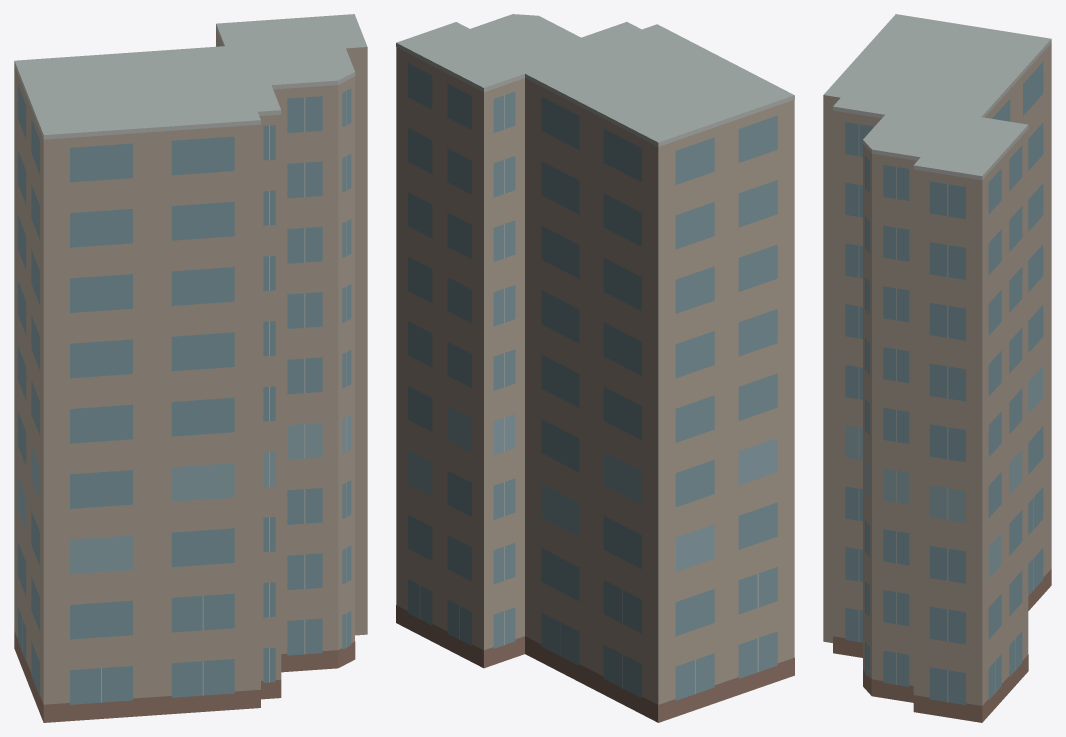
Rendered from survey-upis-32880361.glb.
3 views of the same model, side by side, from view 1: azimuth 30°, elevation 25°; view 2: azimuth 150°, elevation 25°; view 3: azimuth 270°, elevation 25° (orthographic). The views are drawn at different scales.
Visible parts, largest first — view 1: survey-upis-32880361.tmp; view 2: survey-upis-32880361.tmp; view 3: survey-upis-32880361.tmp.
Part boxes in pixels (bbox=[...]): survey-upis-32880361.tmp: bbox=[14, 14, 367, 722]; survey-upis-32880361.tmp: bbox=[396, 14, 794, 722]; survey-upis-32880361.tmp: bbox=[823, 14, 1051, 722].
Size of the model in its own units: 20.69 by 32.5 by 12.31.
